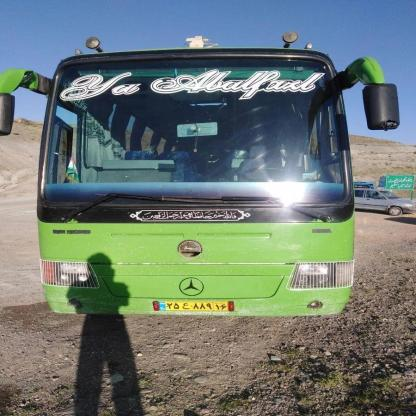Bus: (26, 40, 372, 338)
Car: (349, 182, 416, 222)
